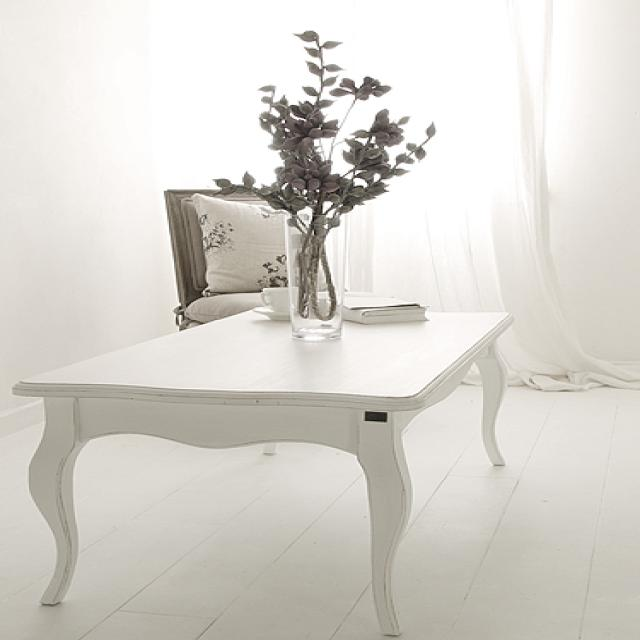white desk: (8, 294, 508, 630)
